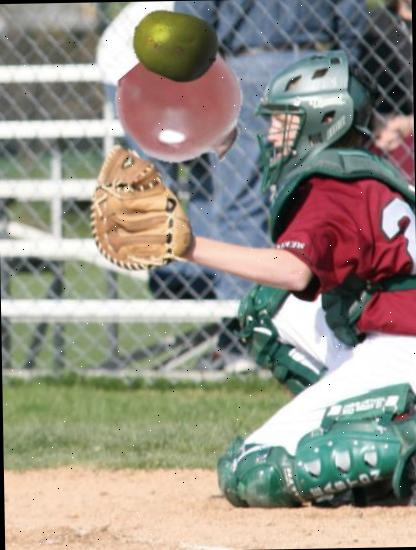Pomelo: (130, 0, 220, 89)
Redcurrant: (119, 42, 250, 174)
